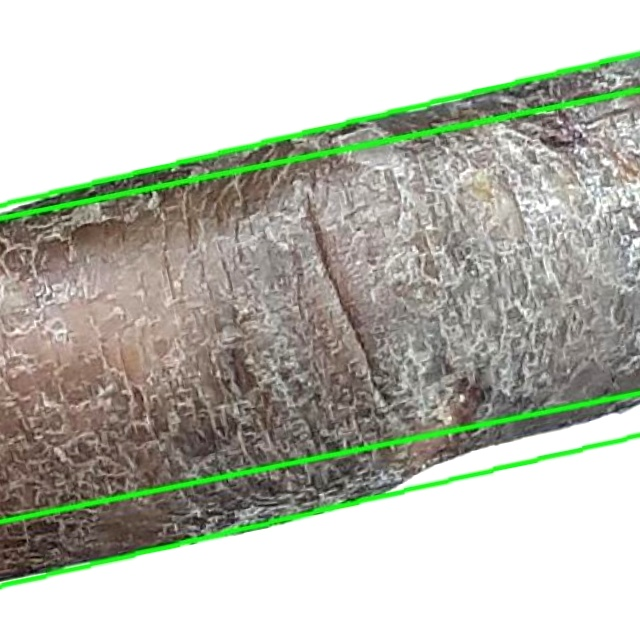Eczema: (0, 54, 639, 586)
